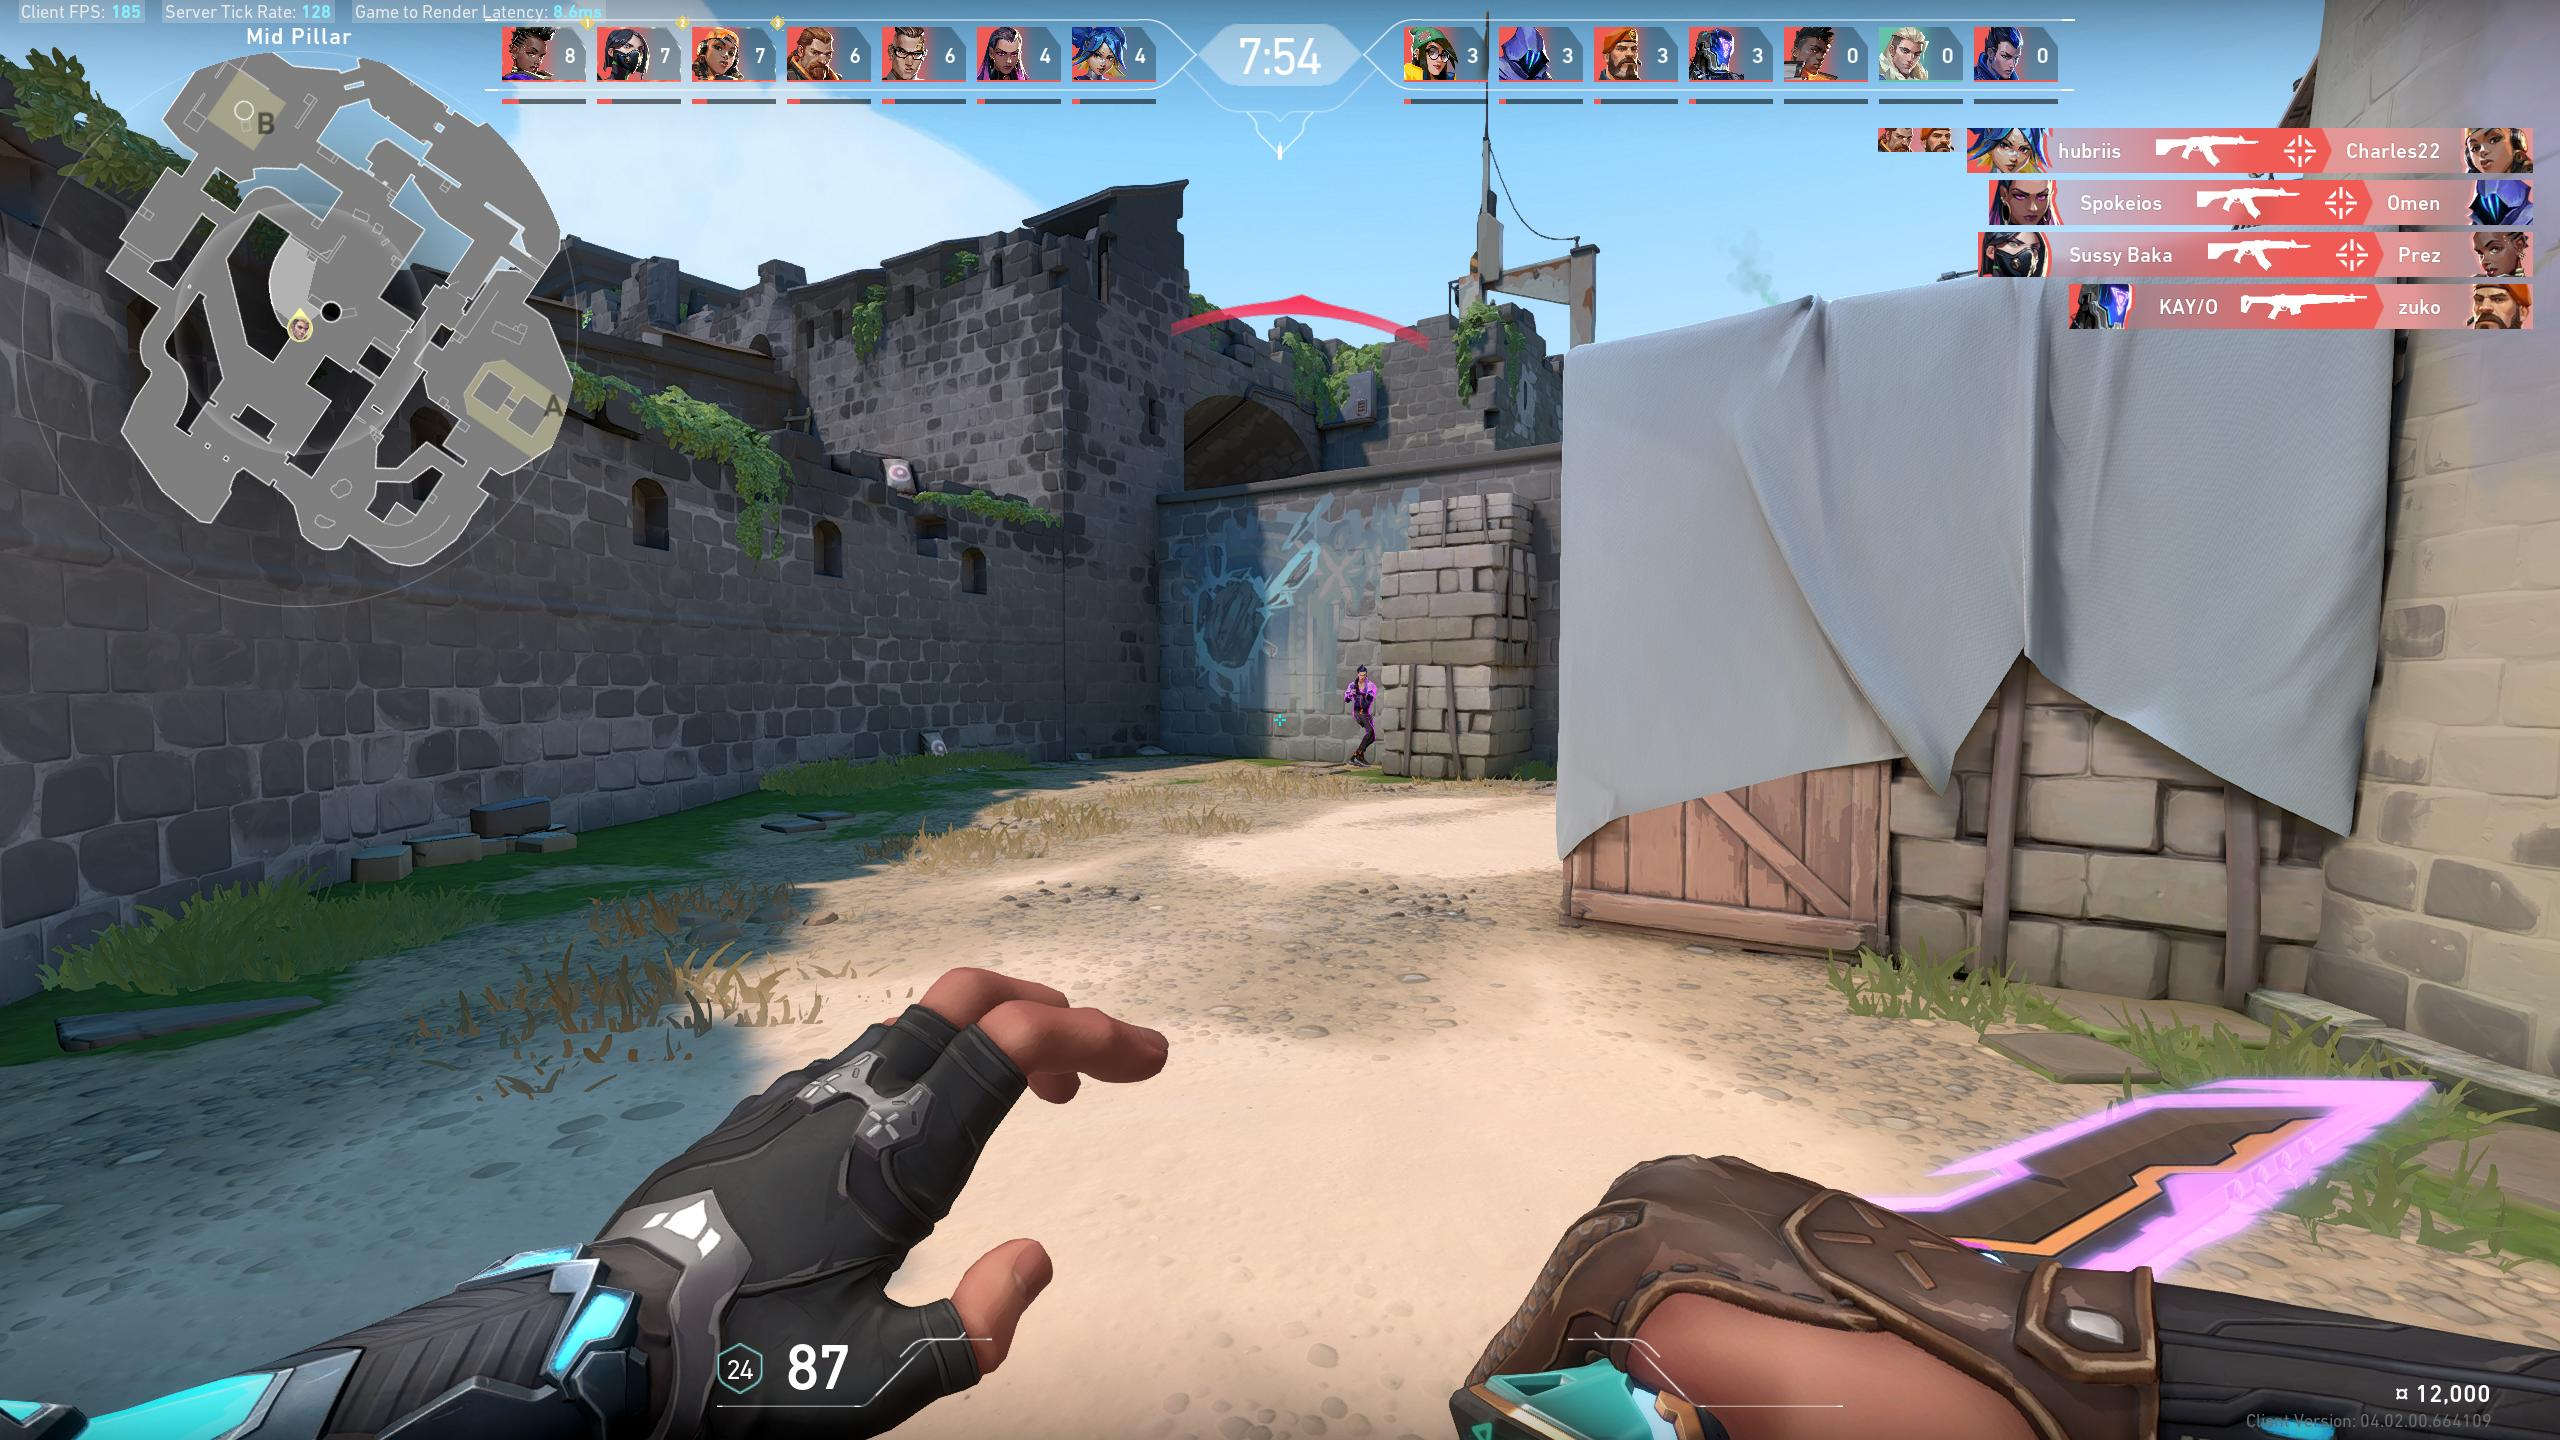enemyBody: (1356, 682, 1368, 710)
enemyHead: (1359, 668, 1366, 680)
